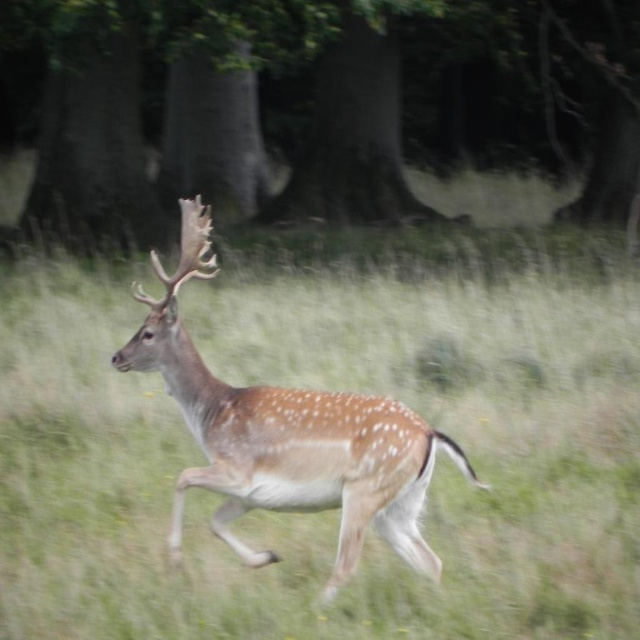Deer: (113, 192, 491, 611)
